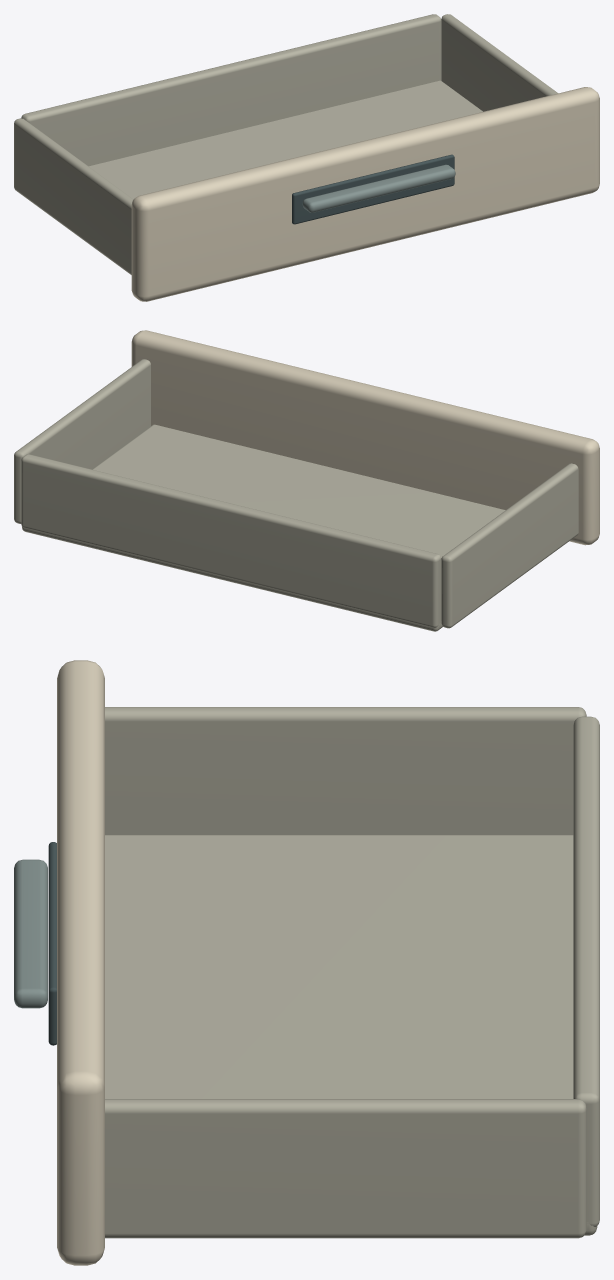
The model's file is cabinet-drawer-100.glb.
3 views of the same model, one above another, from view 1: azimuth 30°, elevation 25°; view 2: azimuth 150°, elevation 25°; view 3: azimuth 270°, elevation 25° (orthographic). The views are drawn at different scales.
Visible parts, largest first — view 1: cabinet-drawer-100 / 02 • inner shell, cabinet-drawer-100 / 01 • warm porcelain paint, cabinet-drawer-100 / 06 • dark anodized frame, cabinet-drawer-100 / 05 • brushed titanium; view 2: cabinet-drawer-100 / 02 • inner shell, cabinet-drawer-100 / 01 • warm porcelain paint; view 3: cabinet-drawer-100 / 02 • inner shell, cabinet-drawer-100 / 01 • warm porcelain paint, cabinet-drawer-100 / 05 • brushed titanium, cabinet-drawer-100 / 06 • dark anodized frame.
Boxes of the visible parts, left/top/right/bottom form: cabinet-drawer-100 / 02 • inner shell: left=14, top=14, right=558, bottom=274; cabinet-drawer-100 / 01 • warm porcelain paint: left=131, top=87, right=599, bottom=301; cabinet-drawer-100 / 06 • dark anodized frame: left=292, top=154, right=454, bottom=224; cabinet-drawer-100 / 05 • brushed titanium: left=302, top=164, right=455, bottom=212; cabinet-drawer-100 / 02 • inner shell: left=14, top=359, right=578, bottom=631; cabinet-drawer-100 / 01 • warm porcelain paint: left=131, top=330, right=599, bottom=545; cabinet-drawer-100 / 02 • inner shell: left=105, top=707, right=599, bottom=1238; cabinet-drawer-100 / 01 • warm porcelain paint: left=57, top=660, right=104, bottom=1265; cabinet-drawer-100 / 05 • brushed titanium: left=14, top=859, right=47, bottom=1008; cabinet-drawer-100 / 06 • dark anodized frame: left=48, top=842, right=56, bottom=1045.
Bounding box in the file's own units: 0.944 × 0.2 × 0.5505.
